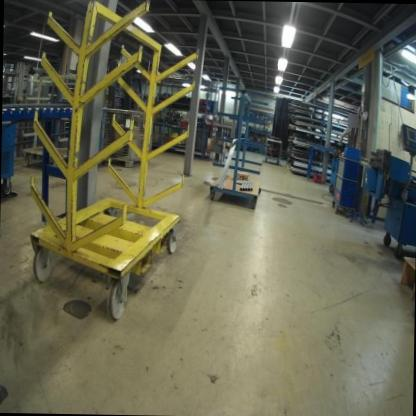stillage: (105, 110, 150, 168)
